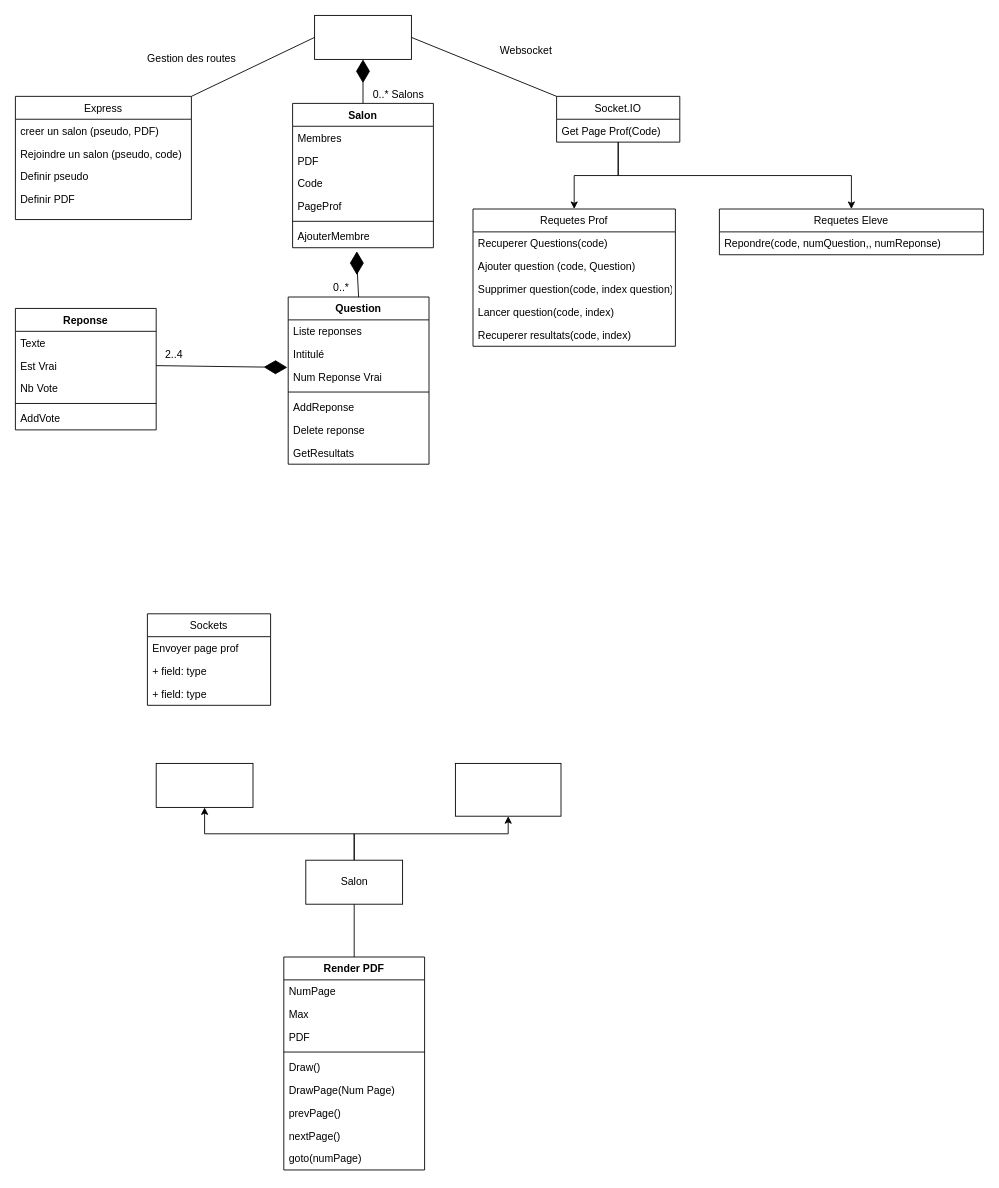
This 999x1188 diagram has some shape labels left out. The shapes that lost their labels are listed below. From the top down, each one's centre as x and y in pixels, then its label:
At (362,37): "Serveur".
At (204,785): "Salon Prof".
At (508,789): "Salon Eleve".
